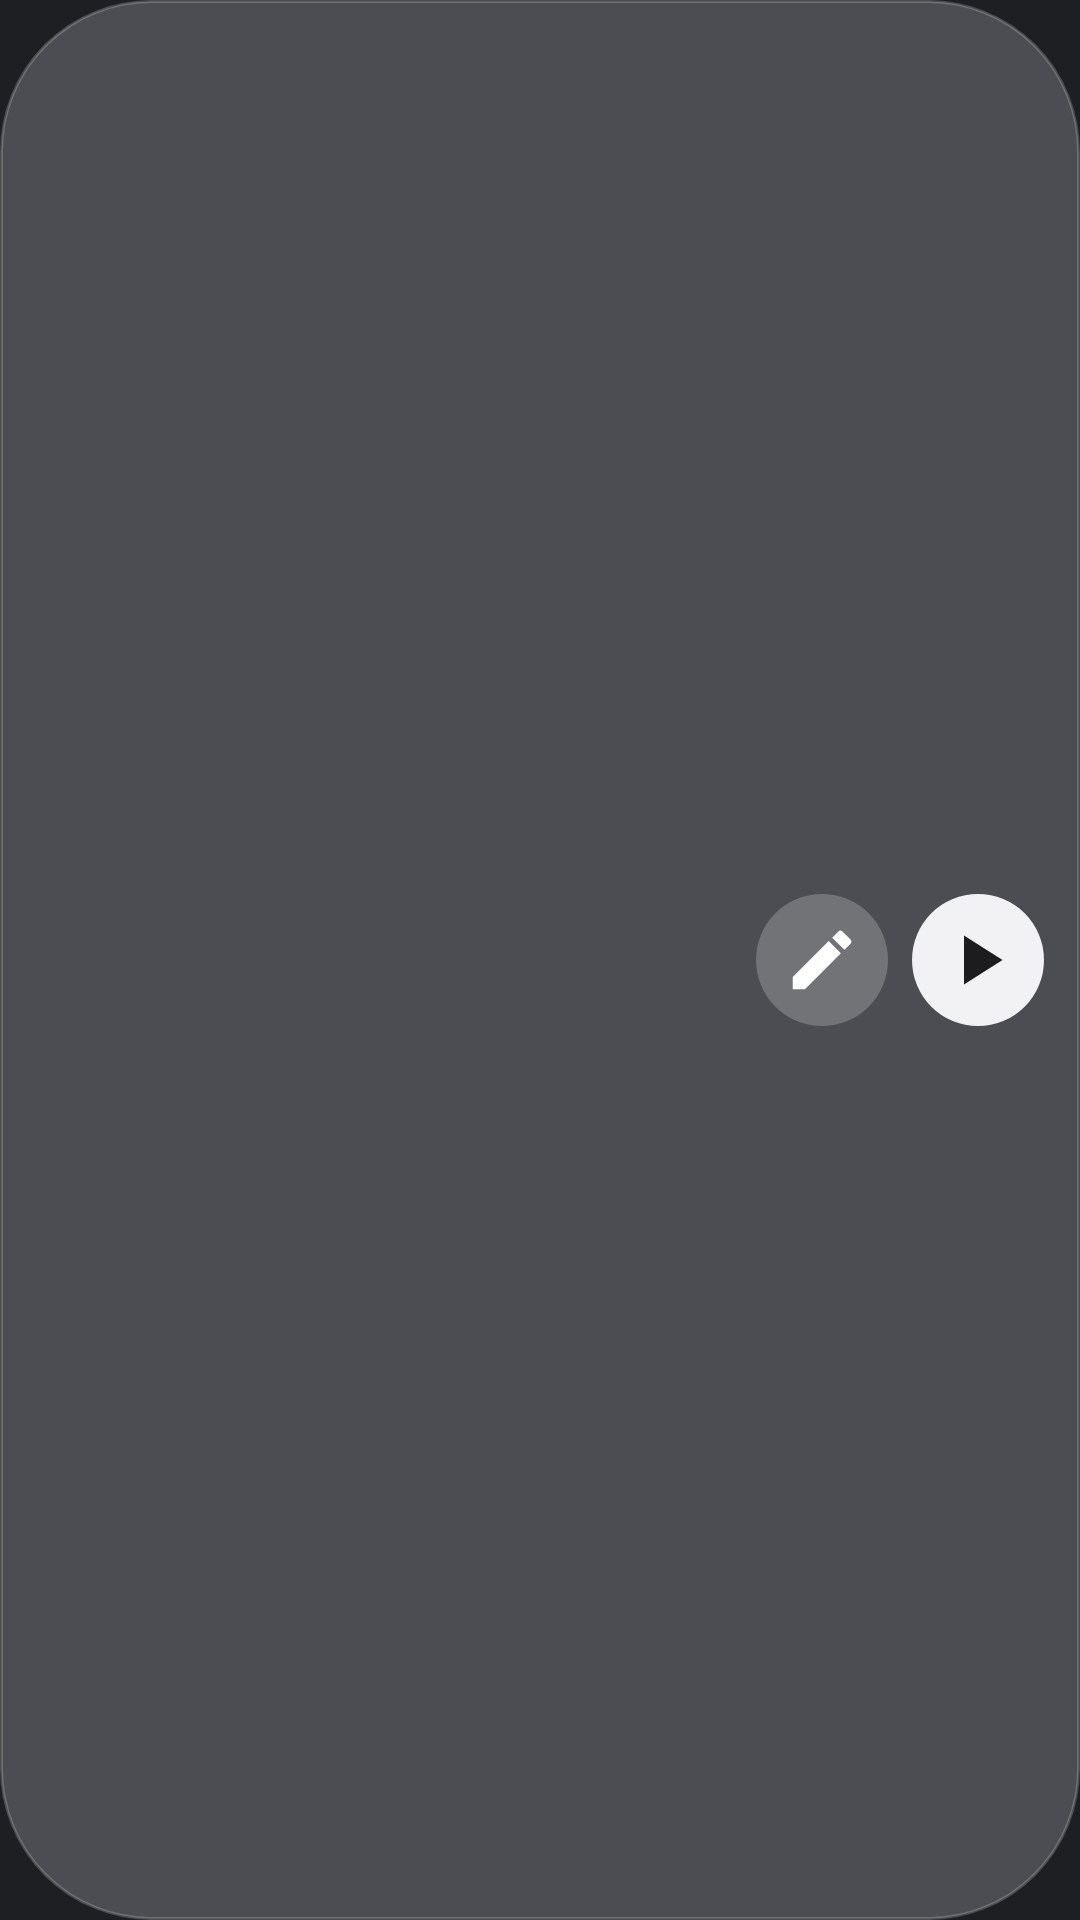

Named icons in this screenshot (1080 × 1920) and their bounding boxes, (x1, y1, x2, y2):
Писати: (756, 894, 888, 1026)
Продовжити: (912, 894, 1044, 1026)
